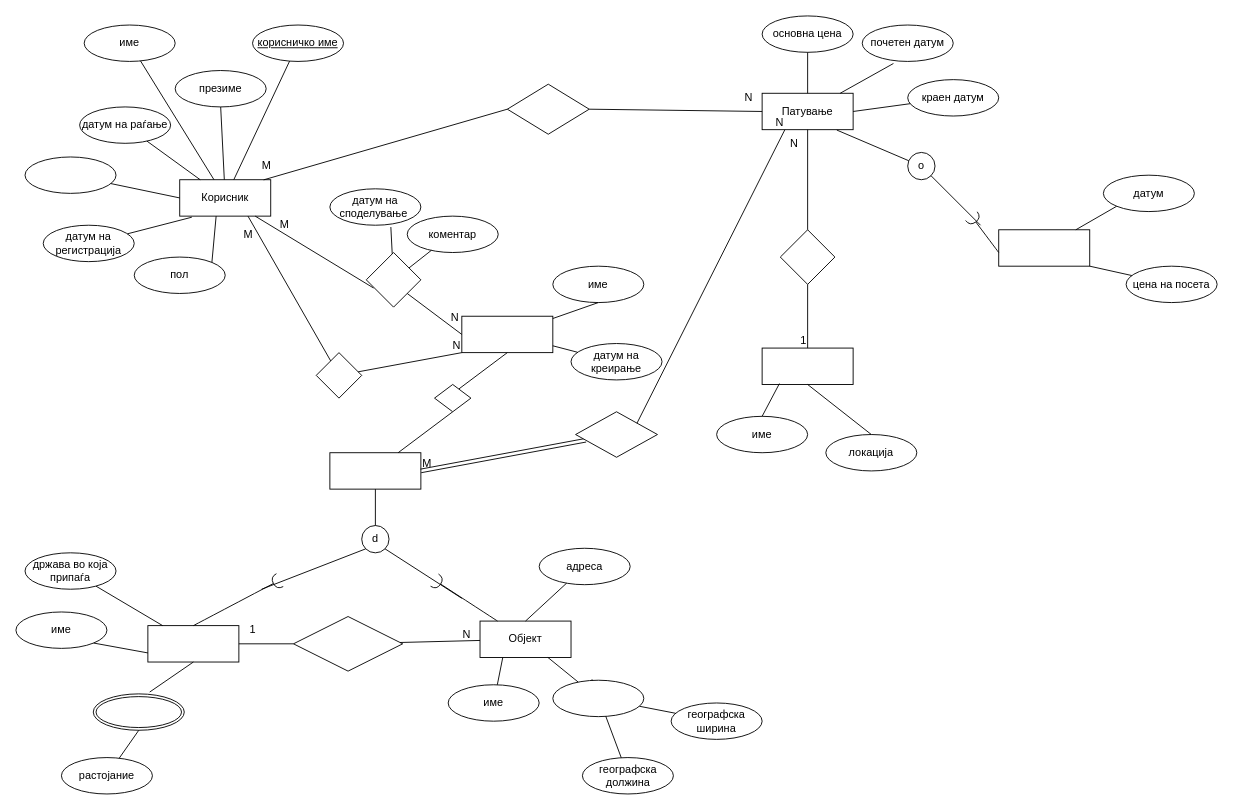
Image size: 1233x810. Some labels were removed from this diagram. The box of each missing label's shape, as (x1, y1, x2, y2) in pixels:
географска локација: (552, 679, 644, 717)
Град: (147, 625, 239, 662)
емаил адреса: (24, 156, 116, 193)
креира: (315, 352, 362, 398)
Листа со туристички места: (461, 315, 553, 353)
организира: (779, 229, 835, 284)
посетува: (575, 411, 657, 457)
припаѓа: (293, 616, 403, 671)
присуствува: (506, 83, 589, 134)
соседни градови: (92, 693, 184, 730)
Споделува: (365, 252, 421, 307)
Туристички агенции: (761, 347, 853, 384)
Туристичко место: (329, 452, 421, 489)
Факултативни посети: (998, 229, 1090, 266)
